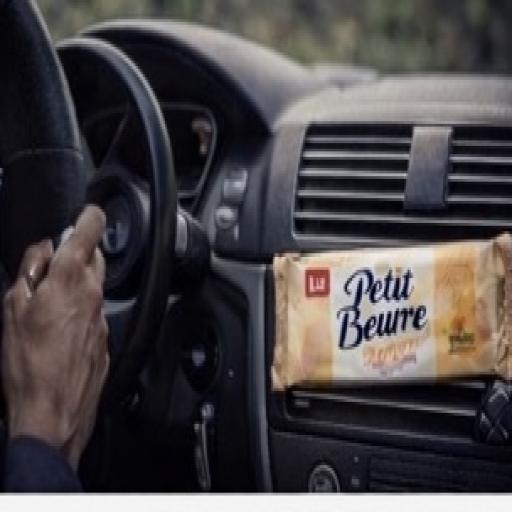petit-beurre: (244, 192, 512, 462)
